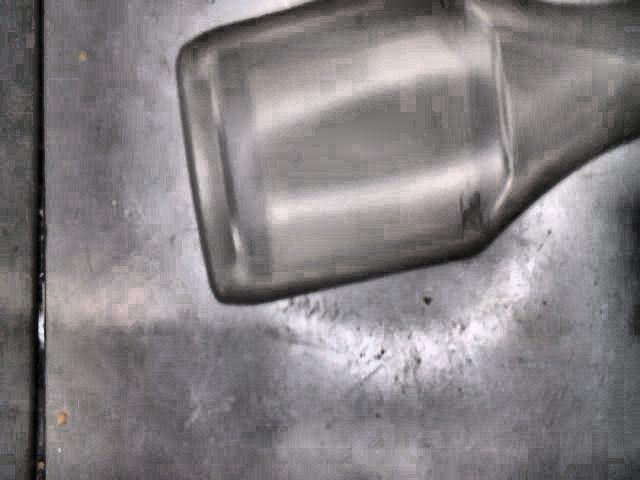Plastic: (178, 0, 640, 310)
